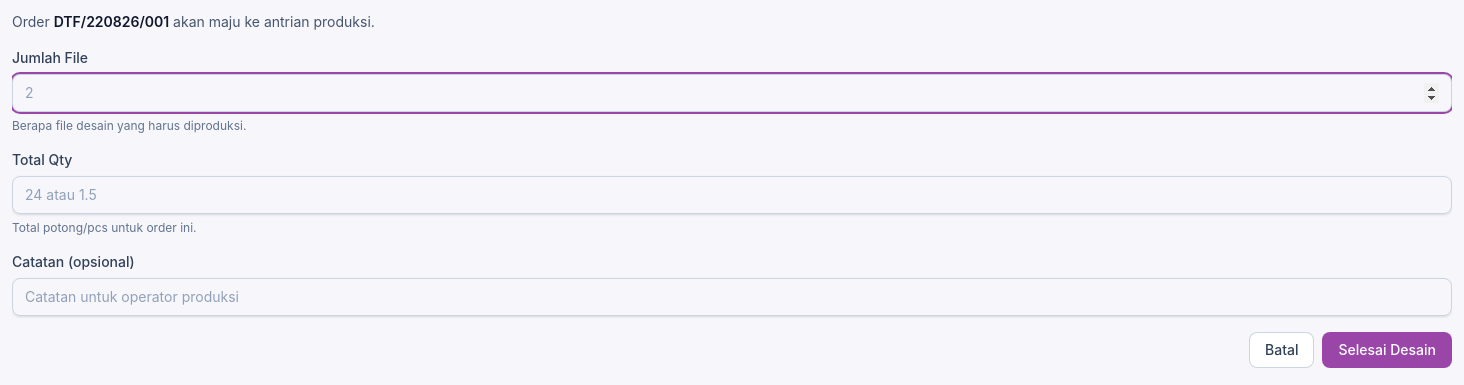
SelesaiDesainForm › menolak angka nol
In the number field labelled "Jumlah File": (732, 93) [12, 74, 1452, 112], type "0"
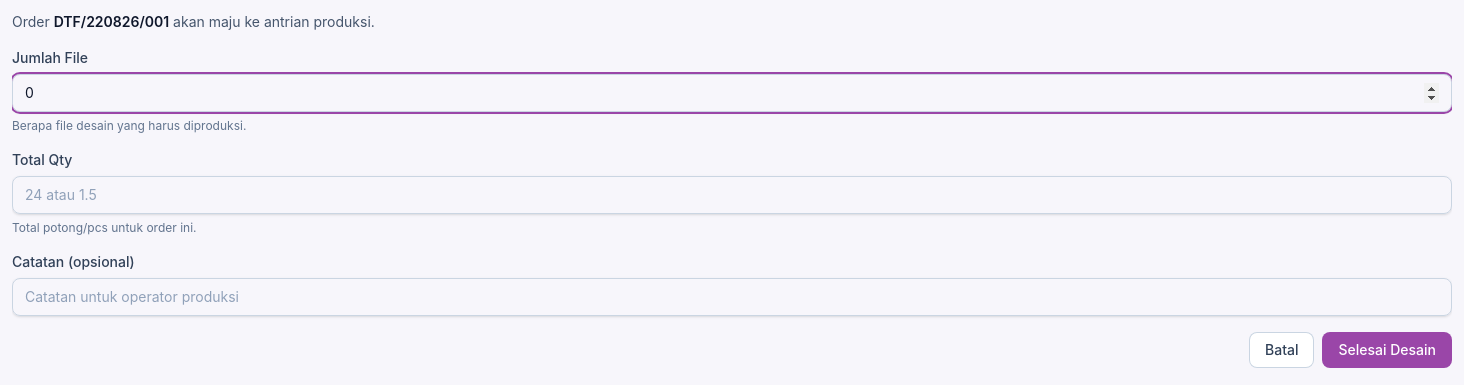
In the number field labelled "Total Qty": (732, 195) [12, 176, 1452, 214], type "0"
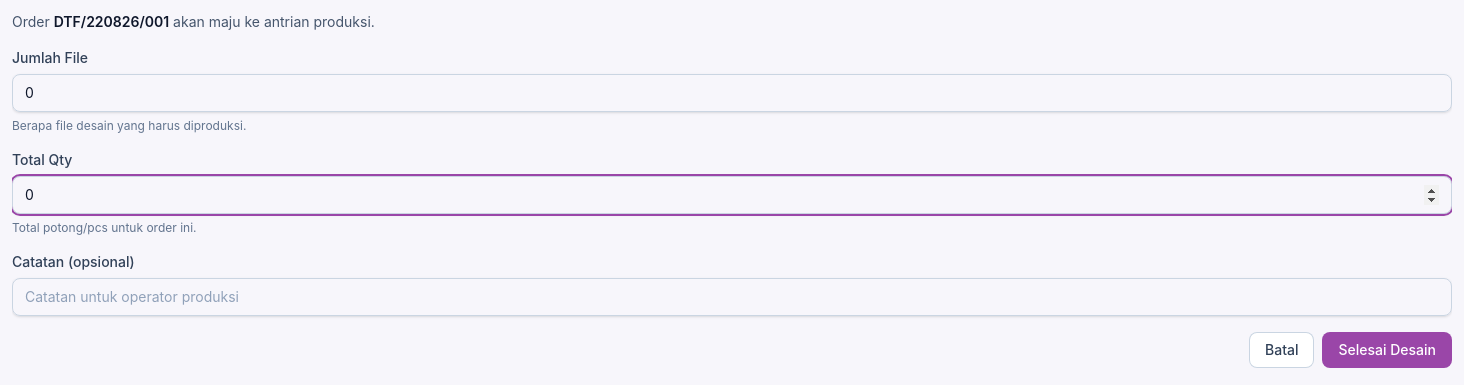
Click the button "Selesai Desain": (1387, 350) [1322, 332, 1452, 368]
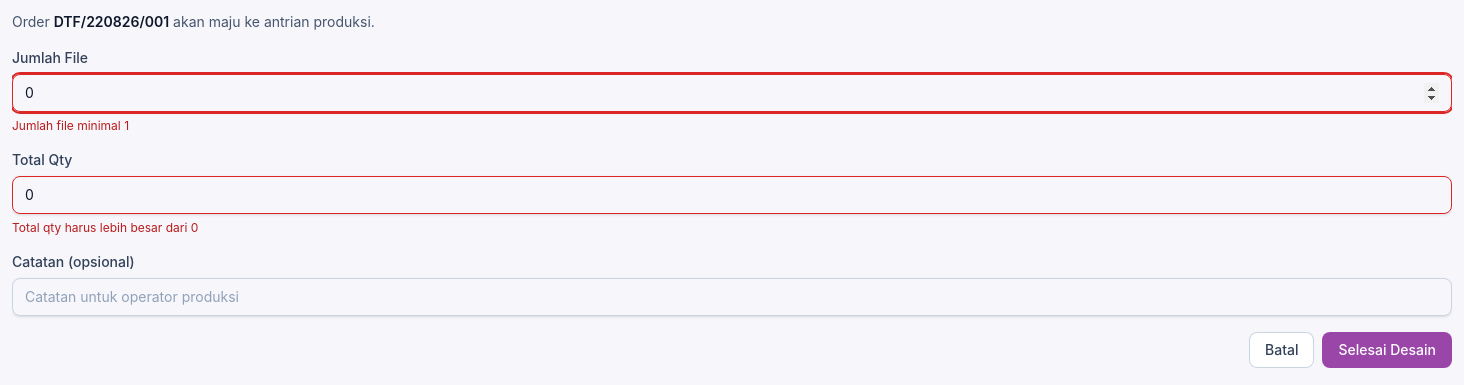
expect the text "Jumlah file minimal 1" is shown: met, box [12, 118, 129, 133]
expect the text "Total qty harus lebih besar dari 0" is shown: met, box [12, 220, 198, 235]
